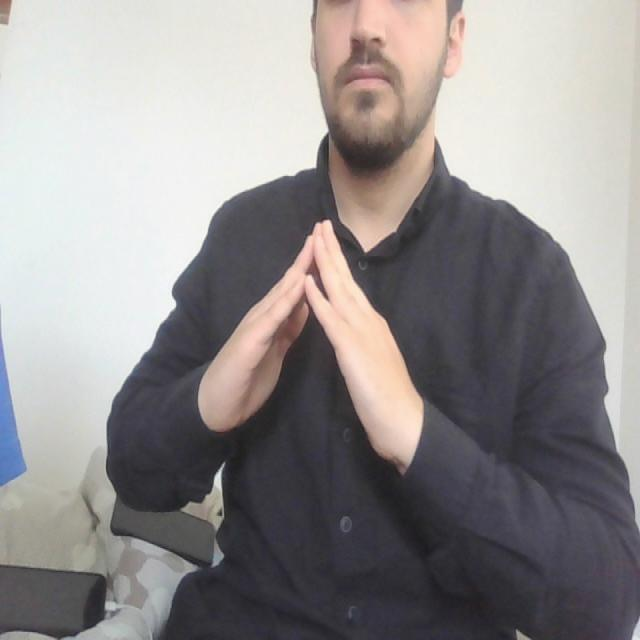Ev: (190, 212, 429, 472)
